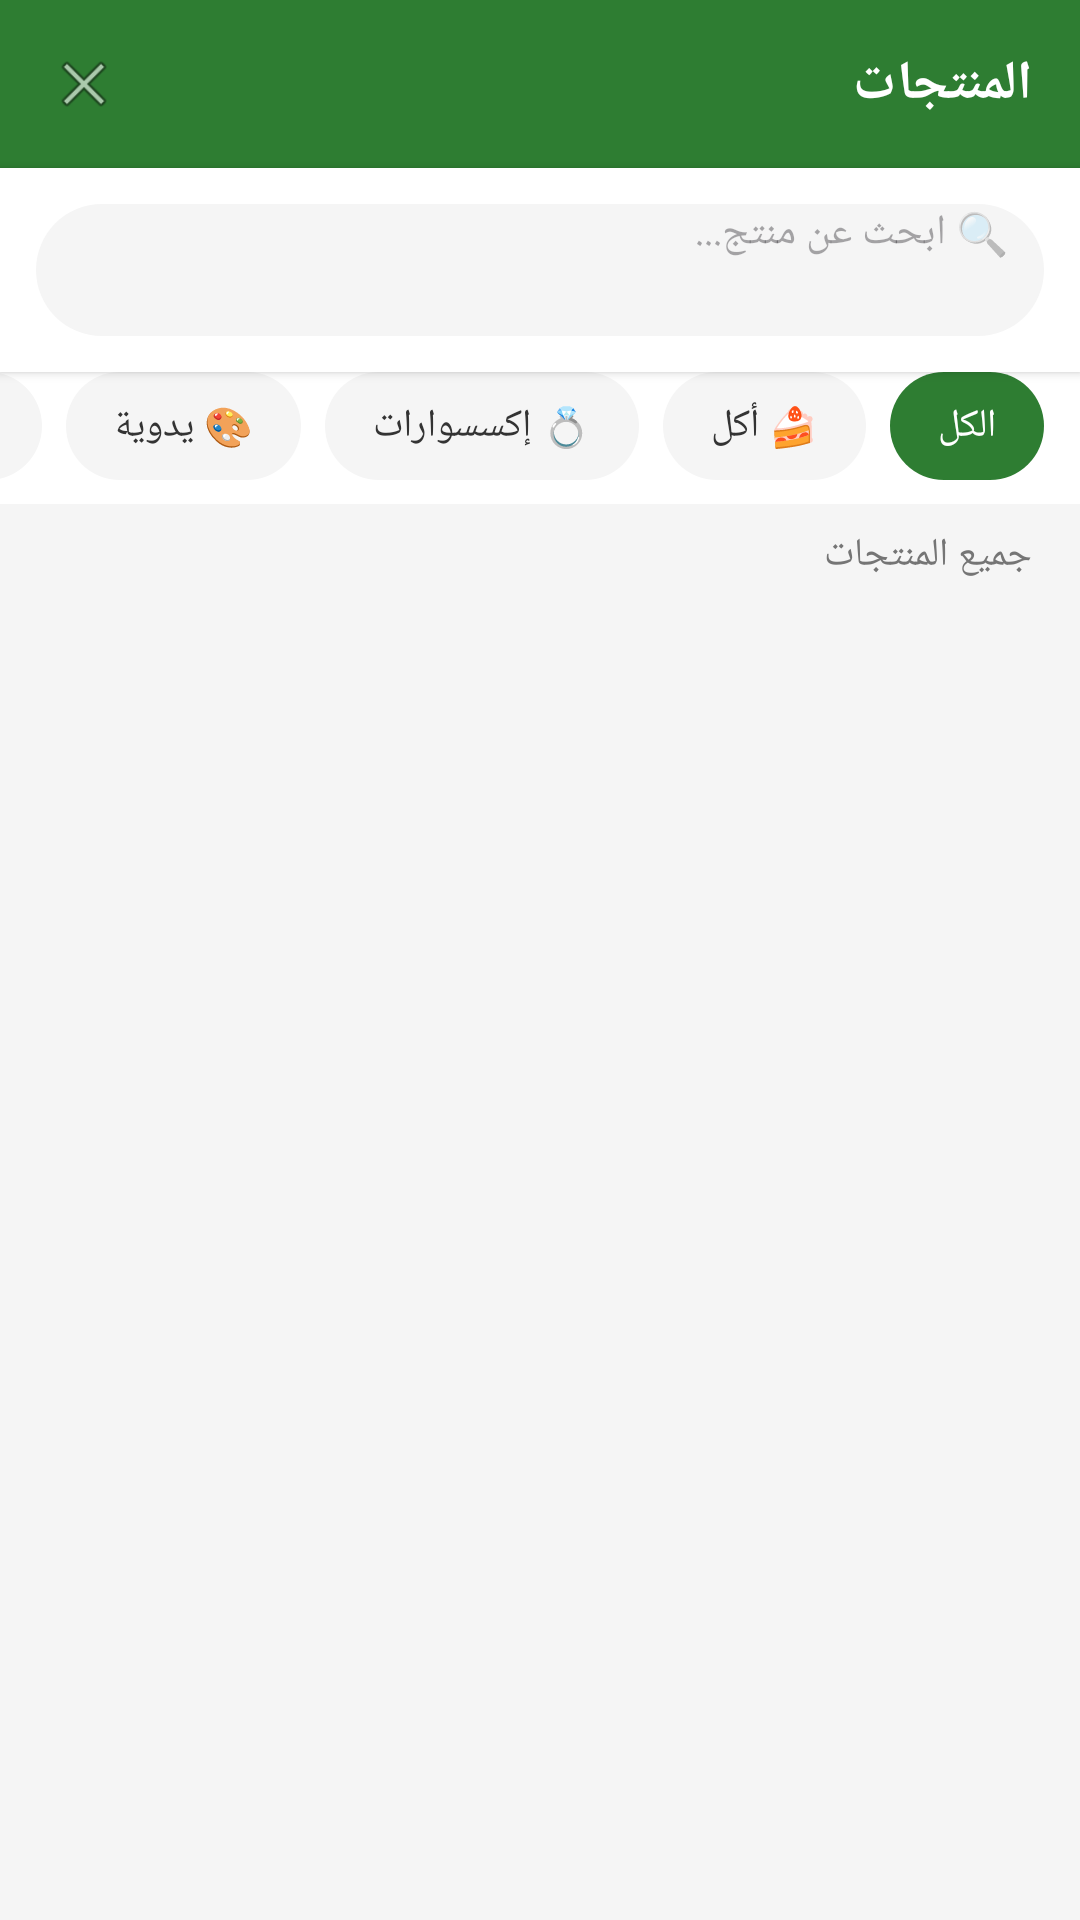

Screen size 1080*1920. Icon name, then its box in pixels as box=[x1, y1, x2, y2]:
close clear cancel: box=[62, 62, 106, 106]
